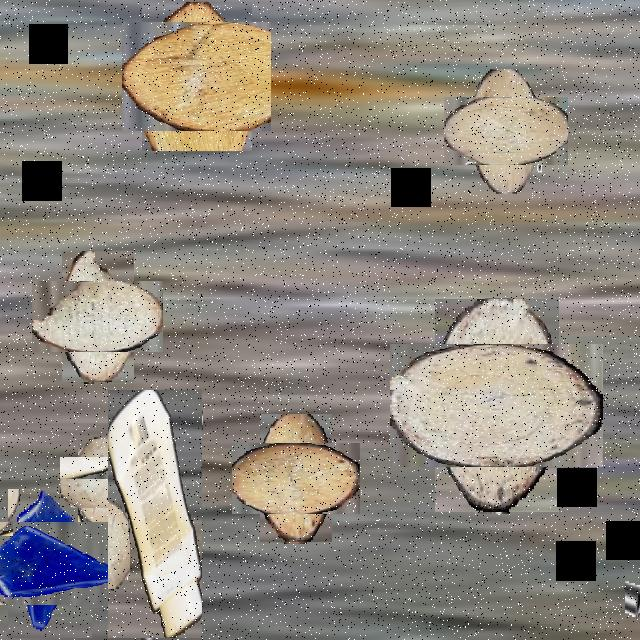glass: (0, 505, 108, 621)
metal: (526, 108, 564, 176), (625, 544, 640, 633)
plastic: (108, 390, 202, 638)
wood: (413, 321, 581, 490), (132, 12, 262, 141), (47, 266, 149, 367), (246, 428, 346, 528), (458, 83, 554, 180), (69, 447, 139, 517)
